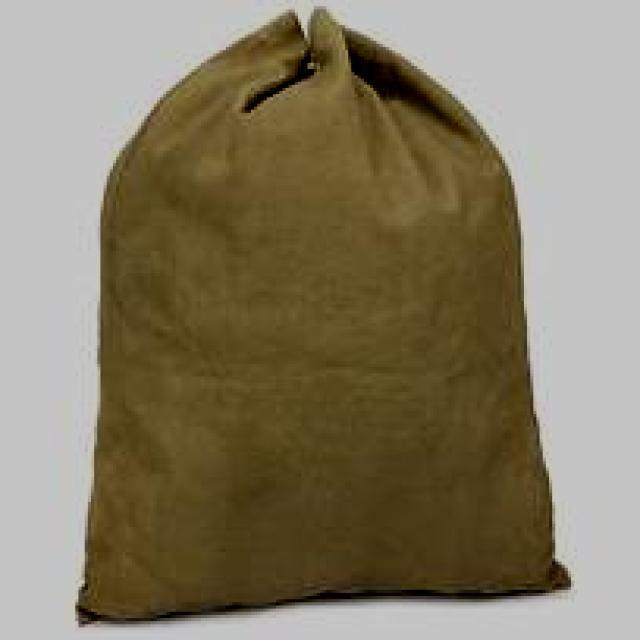gunny_bag: (77, 9, 573, 627)
